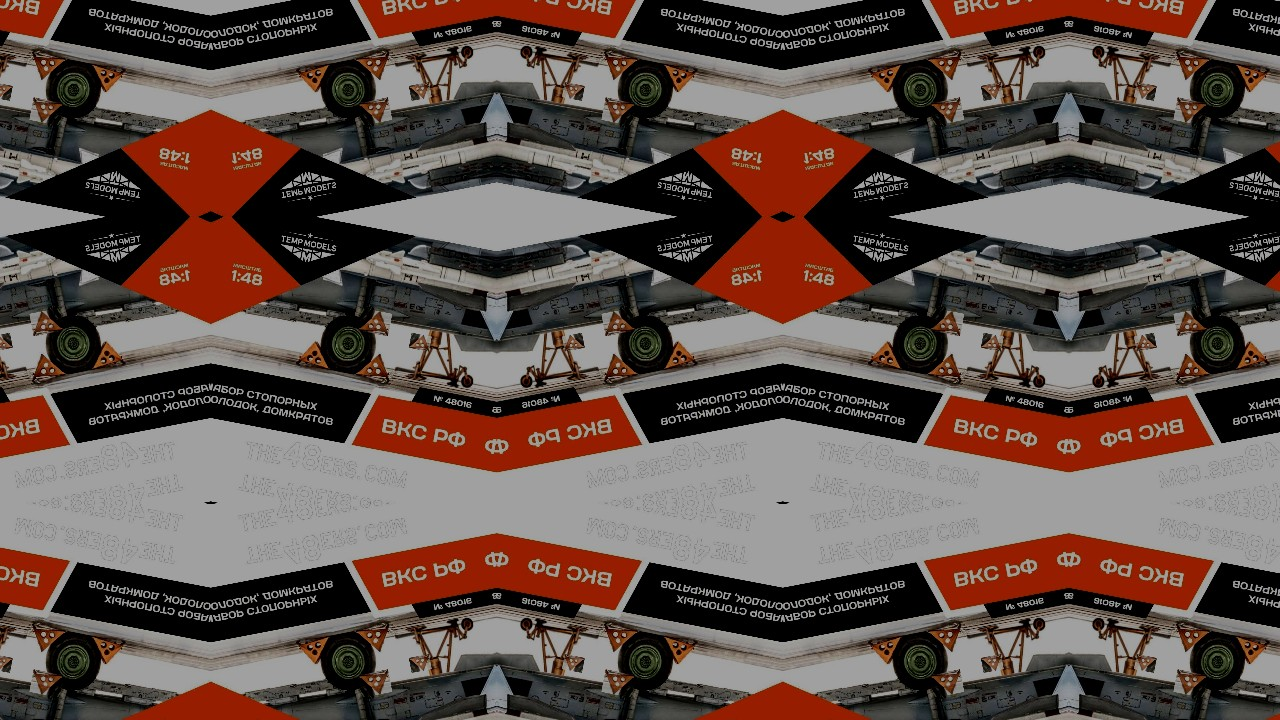chock: (27, 51, 66, 83), (600, 51, 639, 83), (927, 51, 966, 83), (355, 51, 393, 83), (1173, 51, 1211, 83), (27, 351, 66, 382), (600, 351, 639, 382), (927, 351, 966, 382), (27, 624, 66, 655), (600, 624, 639, 655), (927, 624, 966, 655), (355, 351, 393, 382), (295, 339, 333, 370), (660, 339, 698, 370), (868, 339, 906, 370), (1173, 351, 1211, 382), (1233, 339, 1271, 370), (355, 624, 393, 655), (295, 636, 333, 667), (660, 636, 698, 667), (868, 636, 906, 667), (1173, 624, 1211, 655), (1233, 636, 1271, 667), (88, 339, 125, 370), (88, 636, 125, 667), (295, 64, 333, 94), (660, 64, 698, 94), (868, 64, 906, 94), (1233, 64, 1271, 94), (88, 64, 125, 94), (357, 97, 392, 125), (601, 97, 636, 125), (930, 97, 965, 125), (1174, 97, 1209, 125), (357, 308, 392, 336), (601, 308, 636, 336), (930, 308, 965, 336), (1174, 308, 1209, 336), (357, 670, 392, 698), (601, 670, 636, 698), (930, 670, 965, 698), (1174, 670, 1209, 698), (29, 97, 63, 125), (29, 308, 63, 336), (29, 670, 63, 698), (408, 82, 432, 101), (1134, 82, 1158, 101), (408, 333, 432, 352), (1134, 333, 1158, 352), (408, 654, 432, 673), (1134, 654, 1158, 673), (562, 82, 585, 101), (981, 82, 1004, 101), (562, 333, 585, 352), (981, 333, 1004, 352), (562, 654, 585, 673), (981, 654, 1004, 673), (0, 82, 12, 101), (0, 333, 12, 352), (0, 654, 12, 673)
wheel: (40, 309, 105, 376), (315, 309, 380, 376), (613, 309, 678, 376), (888, 309, 953, 376), (1186, 309, 1251, 376), (40, 630, 105, 697), (315, 630, 380, 697), (613, 630, 678, 697), (888, 630, 953, 697), (1186, 630, 1251, 697), (40, 58, 105, 124), (315, 58, 380, 124), (613, 58, 678, 124), (888, 58, 953, 124), (1186, 58, 1251, 124), (459, 45, 474, 61), (1092, 45, 1107, 61), (459, 373, 474, 388), (1092, 373, 1107, 388), (459, 618, 474, 633), (1092, 618, 1107, 633), (520, 45, 534, 61), (1032, 45, 1046, 61), (520, 373, 534, 388), (1032, 373, 1046, 388), (520, 618, 534, 633), (1032, 618, 1046, 633)
